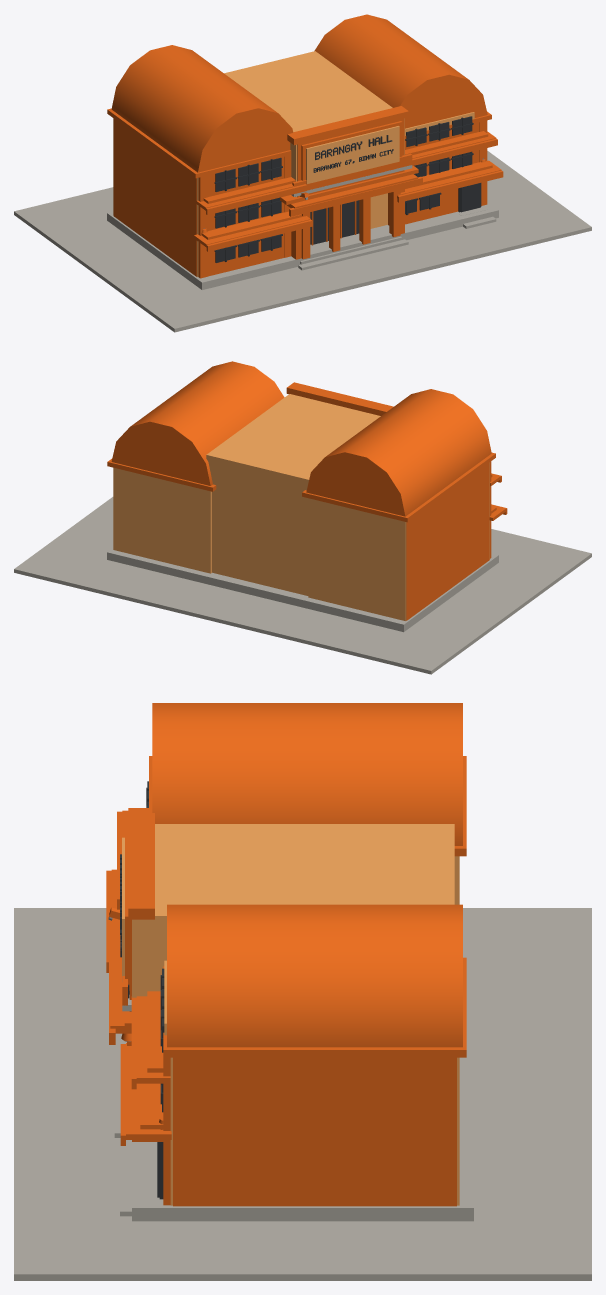
Rendered from barangay67-hall.glb.
The picture shows the model from 3 angles, top to bottom: view 1: azimuth 30°, elevation 25°; view 2: azimuth 150°, elevation 25°; view 3: azimuth 270°, elevation 25°; orthographic projection. The views are drawn at different scales.
Parts seen in each view (by area): view 1: ground_plane, left_roof_dome, right_roof_dome, left_wing_side_panel, central_block_upper, foundation_plinth, sign_panel_border, left_wing_front_panel, central_parapet_cap, right_wing_front_panel, left_roof_eave, entrance_canopy_fascia (+29 smaller); view 2: ground_plane, left_roof_dome, central_block_upper, right_roof_dome, left_wing_body, left_wing_side_panel, right_wing_body, central_ground_core, foundation_plinth, left_roof_eave, central_parapet_cap, right_roof_eave; view 3: ground_plane, right_roof_dome, right_wing_side_panel, left_roof_dome, central_block_upper, foundation_plinth, right_roof_eave, central_parapet_cap, entrance_canopy_lower, right_canopy_g_slab, right_canopy_l2_slab, right_canopy_l2_upper (+3 smaller).
Part boxes in pixels (box(x1,y1,x2,y2)): ground_plane: box(14, 151, 591, 332); left_roof_dome: box(111, 45, 293, 172); right_roof_dome: box(314, 14, 487, 128); left_wing_side_panel: box(113, 119, 196, 276); central_block_upper: box(224, 51, 404, 197); foundation_plinth: box(107, 202, 498, 289); sign_panel_border: box(306, 126, 399, 183); left_wing_front_panel: box(208, 157, 284, 276); central_parapet_cap: box(287, 106, 408, 145); right_wing_front_panel: box(405, 122, 478, 224); left_roof_eave: box(107, 108, 291, 178); entrance_canopy_fascia: box(289, 176, 422, 216); ground_plane: box(14, 497, 591, 674); left_roof_dome: box(306, 389, 491, 516); central_block_upper: box(206, 394, 380, 540); right_roof_dome: box(111, 361, 284, 485); left_wing_body: box(308, 462, 489, 620); left_wing_side_panel: box(406, 462, 489, 620); right_wing_body: box(113, 467, 211, 573); central_ground_core: box(212, 517, 308, 595); foundation_plinth: box(107, 548, 498, 632); left_roof_eave: box(302, 452, 495, 522); central_parapet_cap: box(286, 382, 393, 415); right_roof_eave: box(107, 458, 216, 491); ground_plane: box(14, 908, 591, 1280); right_roof_dome: box(167, 904, 462, 1047); right_wing_side_panel: box(173, 1057, 456, 1206); left_roof_dome: box(152, 703, 462, 845); central_block_upper: box(132, 824, 454, 997); foundation_plinth: box(132, 947, 473, 1221); right_roof_eave: box(163, 957, 466, 1057); central_parapet_cap: box(128, 808, 154, 919); entrance_canopy_lower: box(110, 918, 131, 1033); right_canopy_g_slab: box(126, 1043, 171, 1139); right_canopy_l2_slab: box(136, 996, 170, 1083); right_canopy_l2_upper: box(147, 991, 163, 1072).
Bounding box in the file's own units: 36 × 13.71 × 24.
